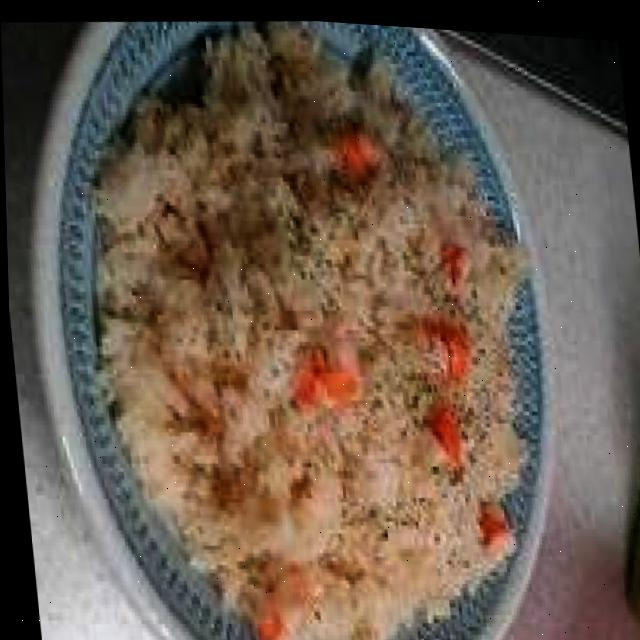米饭主食: (0, 0, 589, 640)
